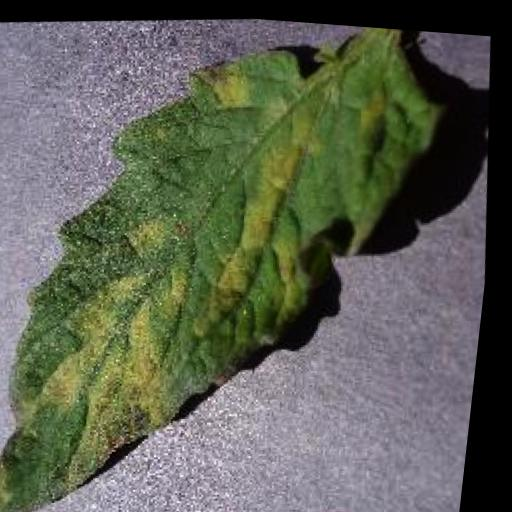Leaf Mold: (0, 0, 485, 512)
